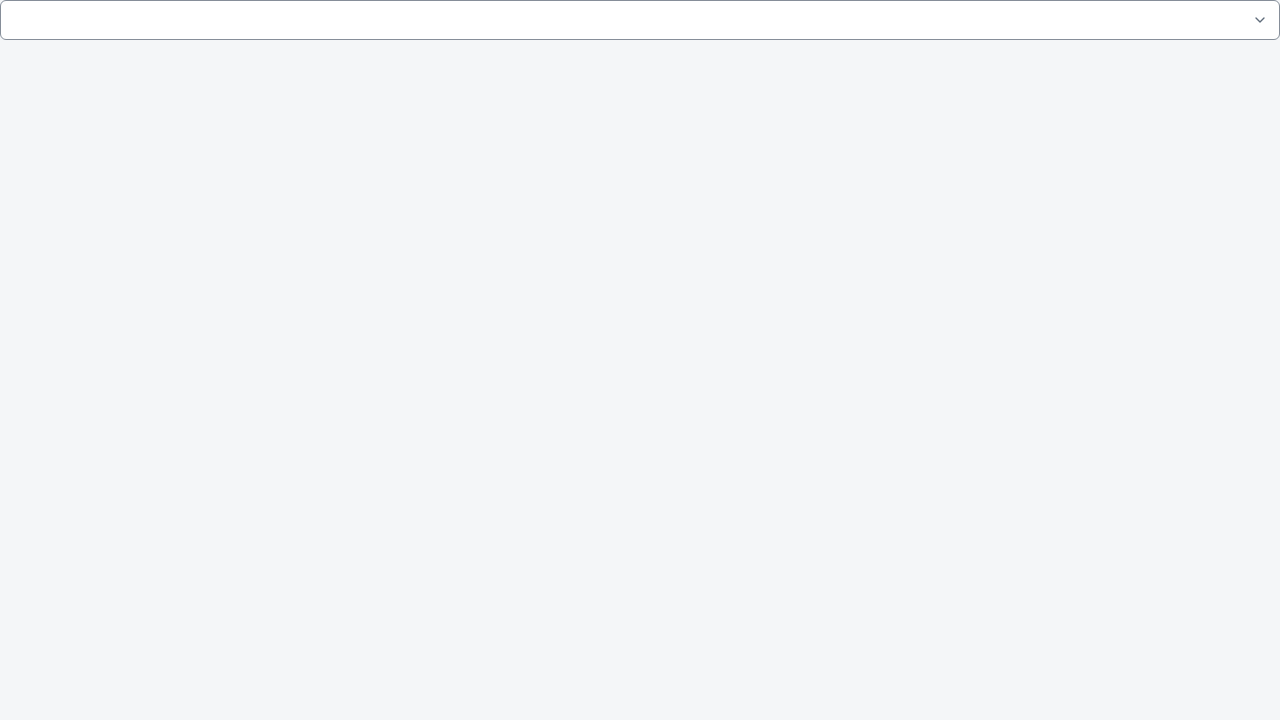
Test: Combobox › 输入触发 onValueChange，且暴露 combobox 语义
This screenshot has width=1280, height=720.
In the dropdown named "物品": (640, 20) [0, 0, 1279, 40], type "苹"
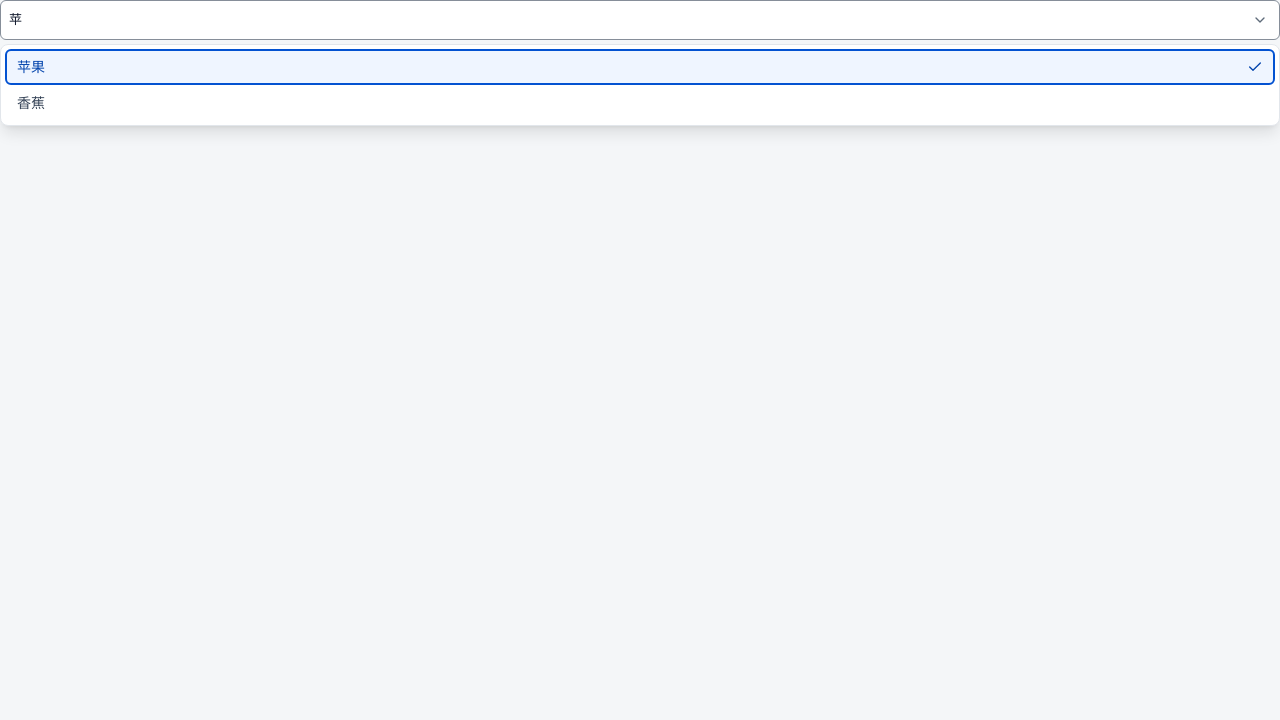
Now the dropdown named "物品" is expanded, box [0, 0, 1279, 40]
